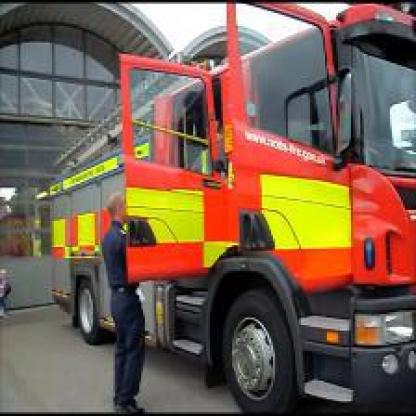other: (126, 146, 343, 276)
